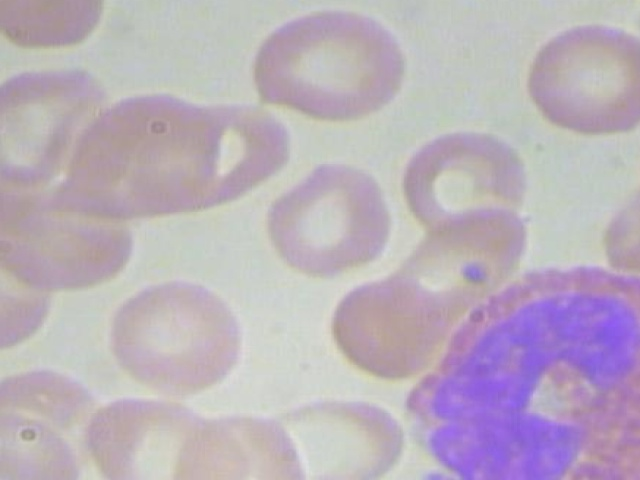RBC: (231, 0, 415, 124), (98, 270, 263, 401), (259, 148, 396, 283), (387, 118, 528, 247), (515, 15, 640, 143), (322, 269, 450, 384), (0, 0, 113, 60), (0, 403, 85, 480), (637, 115, 640, 257)
WBC: (400, 255, 640, 480)
